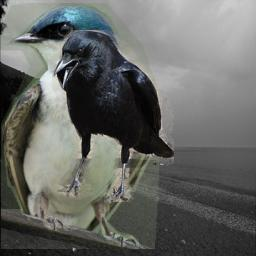Crow: (52, 30, 174, 202)
Swallow: (1, 3, 160, 249)
